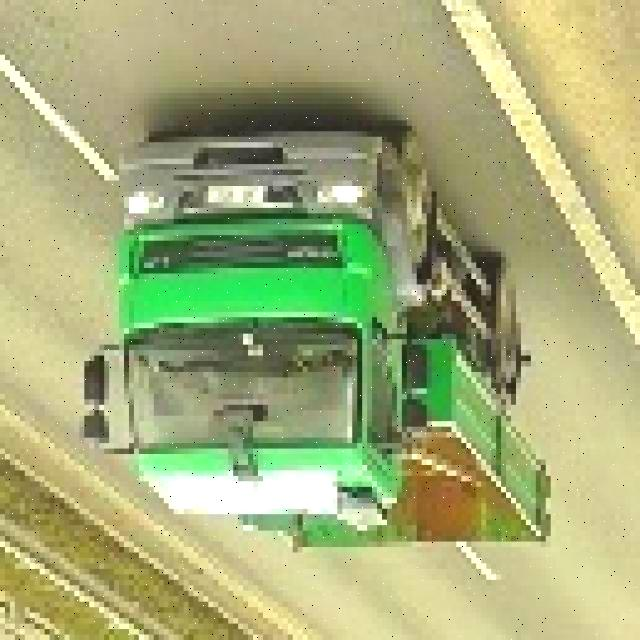truck: (84, 126, 546, 558)
